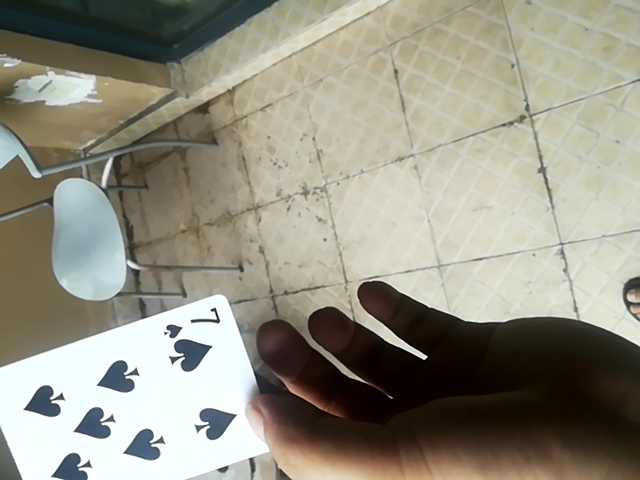ht 7: (2, 296, 260, 479)
